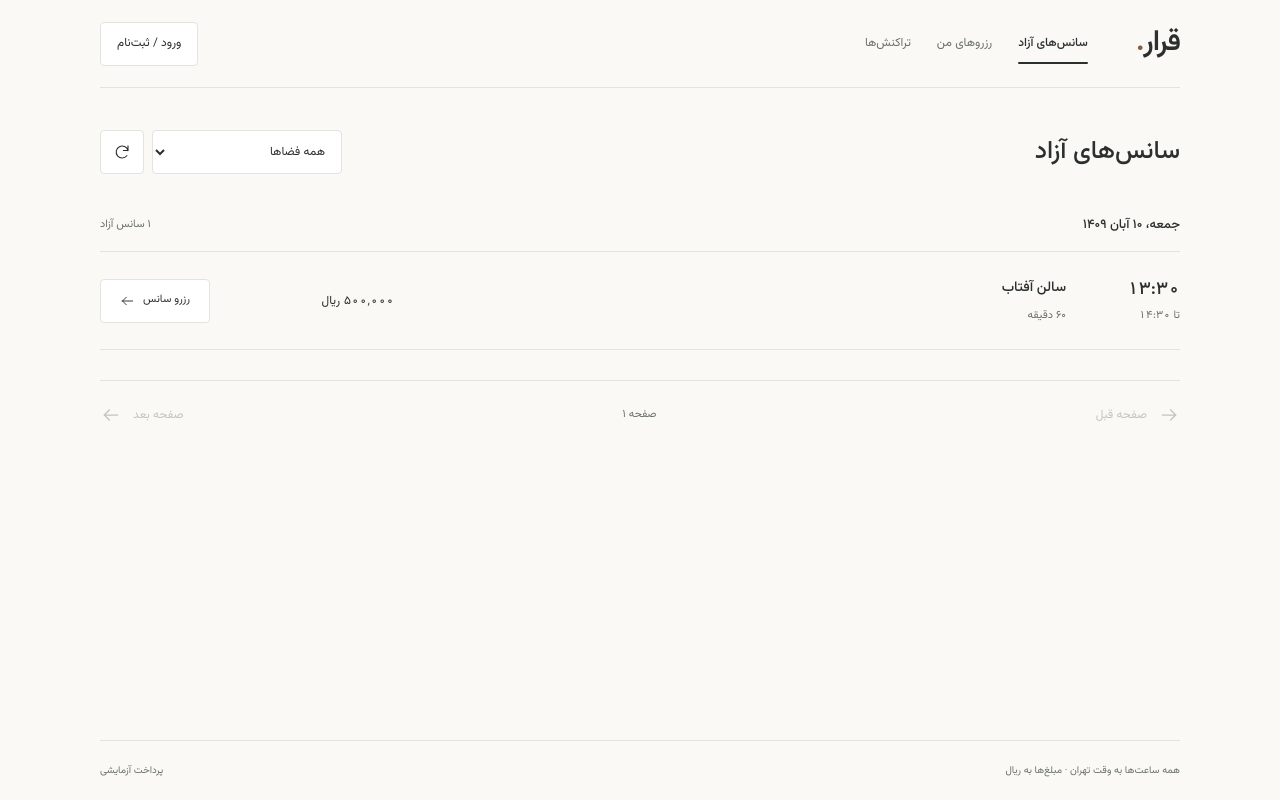
Test case: shows available slots and requires authentication before booking
Expected: the heading "سالن آفتاب" is shown, [1002, 277, 1066, 299]
Click the button "رزرو سانس".
click(155, 301)  # box [100, 279, 210, 323]
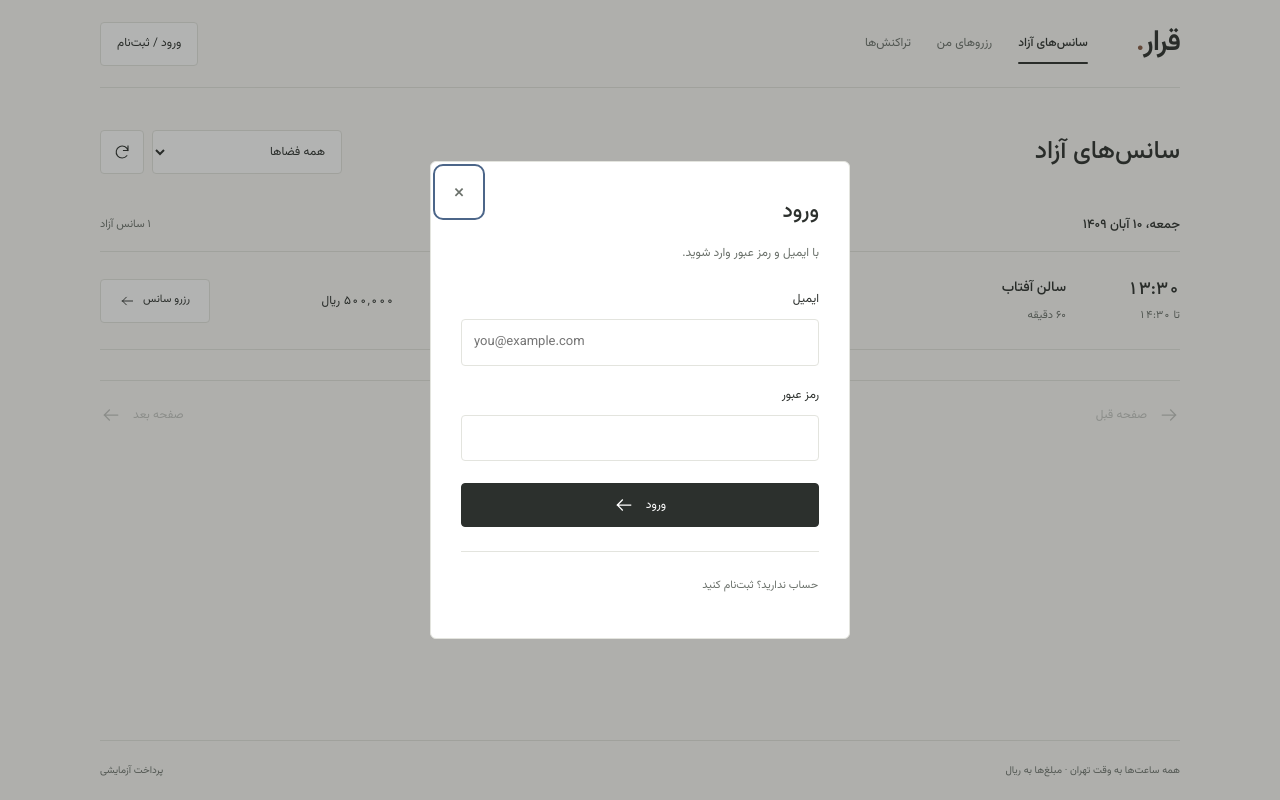
Result: the field labelled "ایمیل" is shown at [461, 319, 819, 366]
